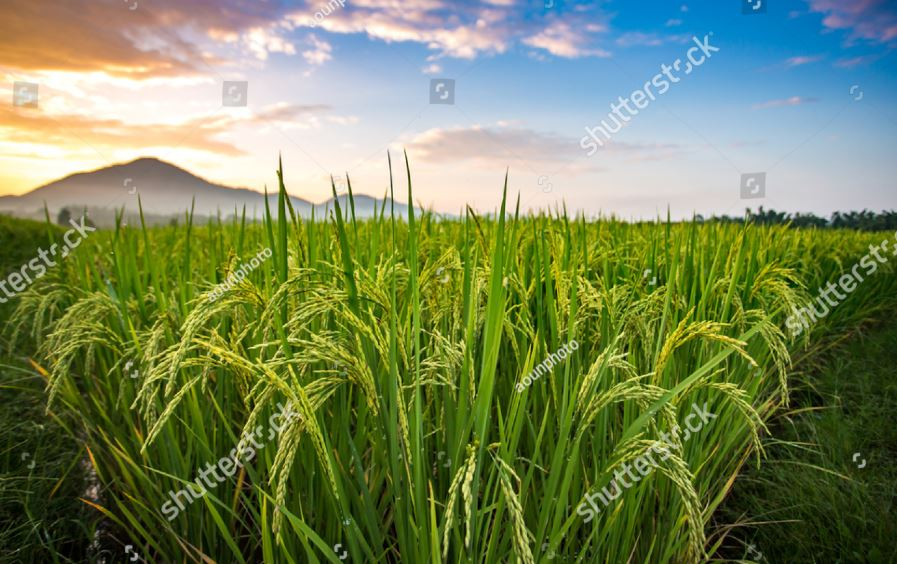Wheat: (75, 240, 712, 516)
